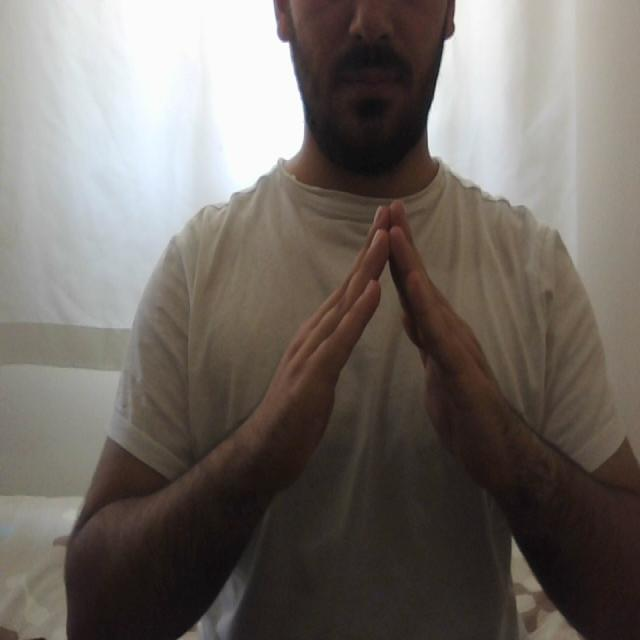Ev: (238, 198, 541, 502)
